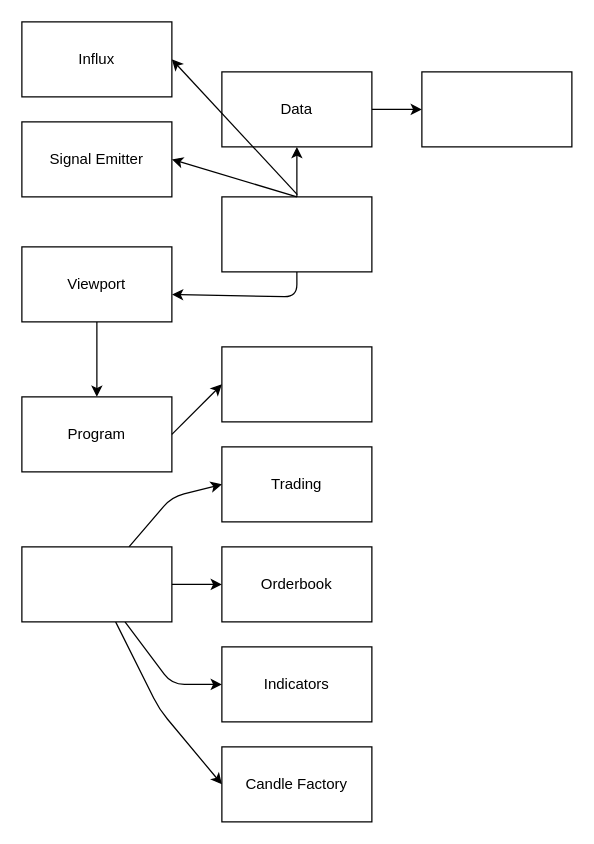
The diagram is 594 pixels wide and 844 high, and some of its shapes have lost their labels. The shapes that lost their labels are listed below. From the top down, each one's box as (x1, y1, x2, y2) in pixels, then its label:
(421, 71, 572, 147): CCXTInterface
(221, 196, 372, 272): main
(221, 346, 372, 422): Task Manager
(21, 546, 172, 622): Chart
